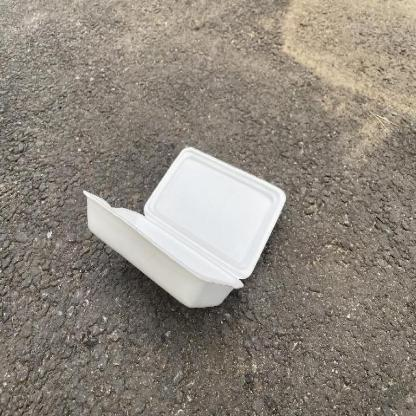Glass Cup: (83, 144, 287, 308), (83, 147, 286, 308)
